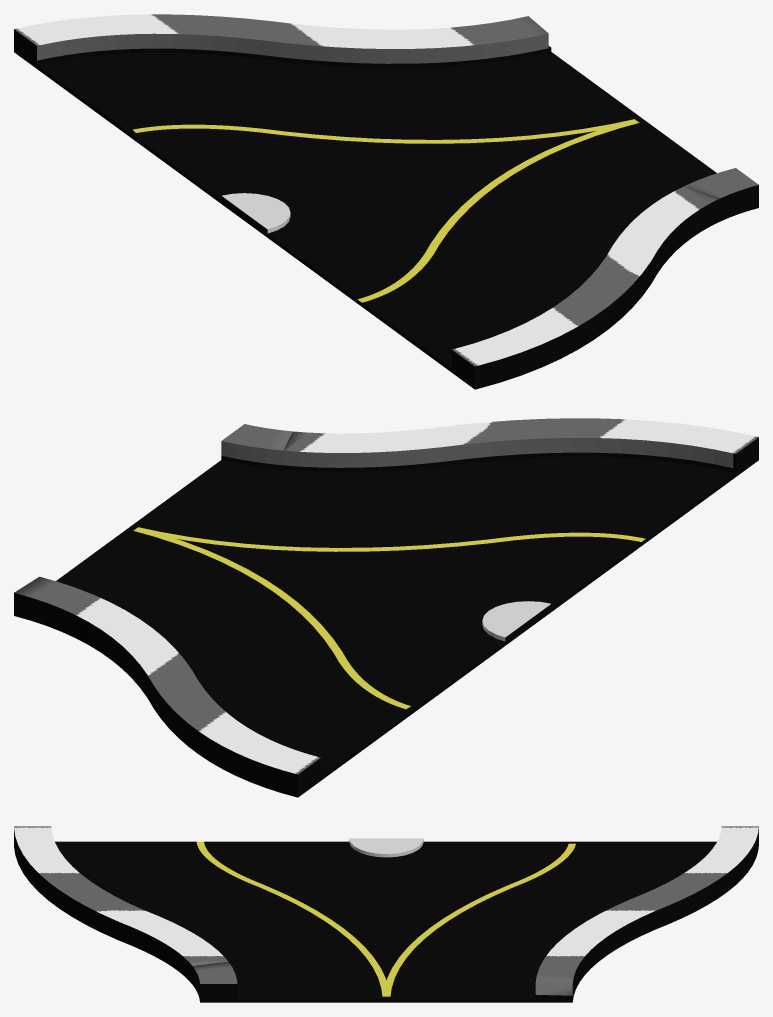
The model's file is road_split.fbx.
3 renders of one model, top to bottom at view 1: azimuth 30°, elevation 25°; view 2: azimuth 150°, elevation 25°; view 3: azimuth 270°, elevation 25°, orthographic. The views are drawn at different scales.
Visible parts, largest first — view 1: road_split; view 2: road_split; view 3: road_split.
Boxes of the visible parts, x1,y1,x2,y2 form: road_split: (14, 14, 758, 389); road_split: (14, 418, 758, 797); road_split: (14, 826, 758, 1002).
Bounding box in the file's own units: 100 × 5.54 × 200.
